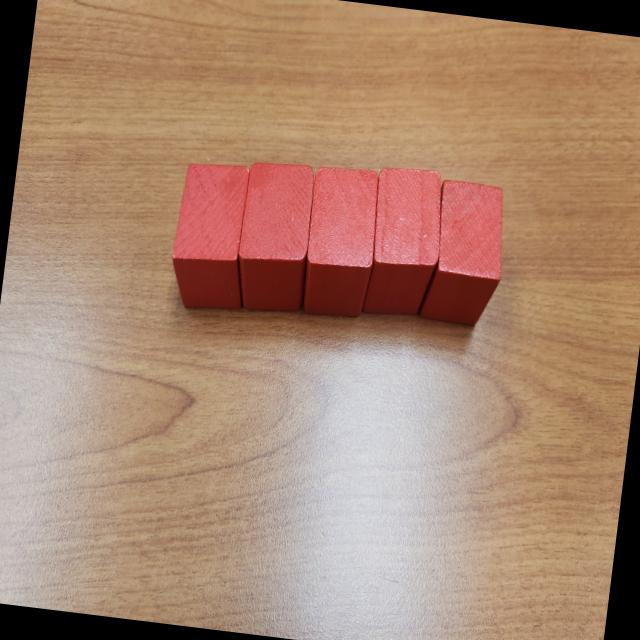red: (163, 152, 259, 316), (416, 173, 512, 329), (359, 162, 450, 322), (294, 162, 382, 321), (232, 156, 318, 316)
